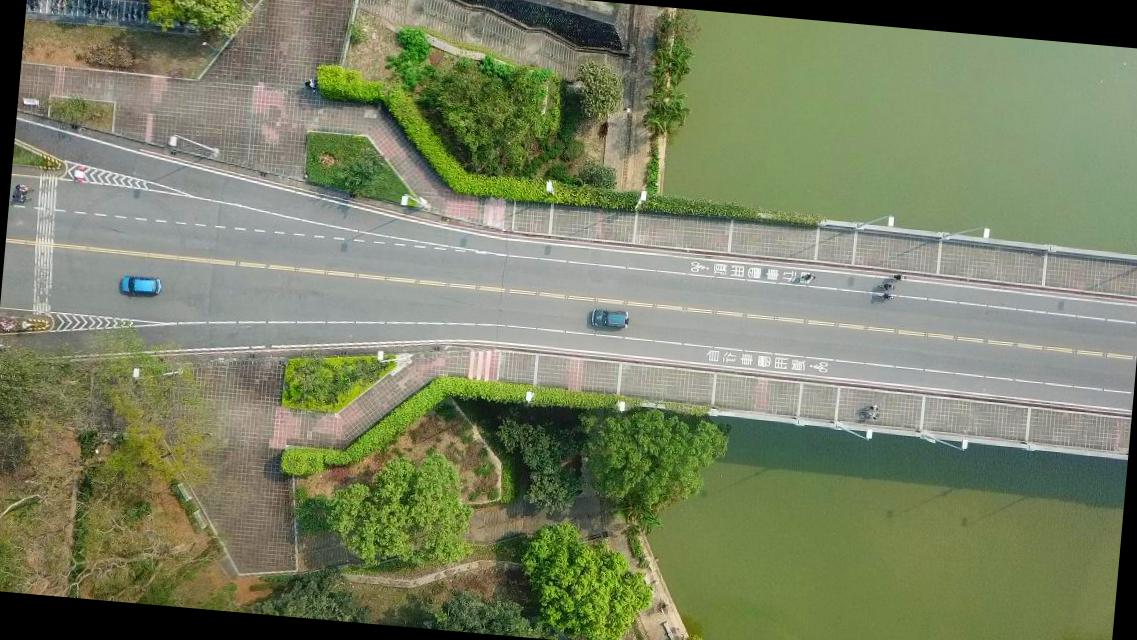vehicle: (118, 276, 160, 298), (590, 309, 628, 330)
